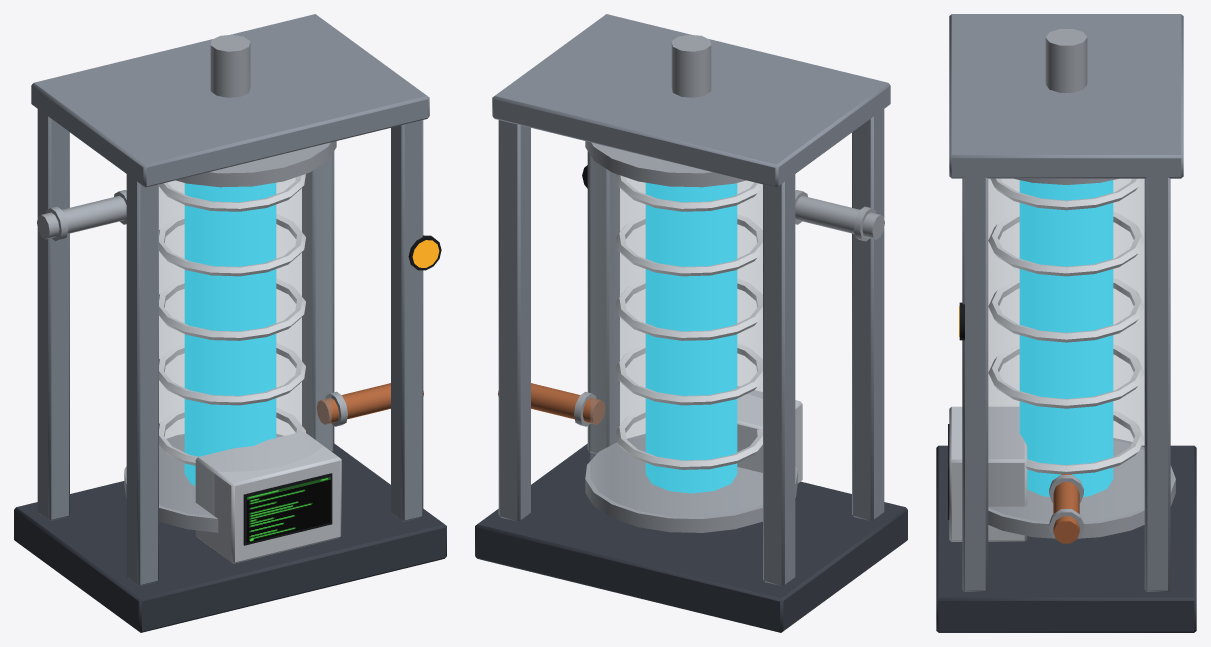
File: scrubber_atmosphere_processor.glb
The picture shows the model from 3 angles, left to right: view 1: azimuth 30°, elevation 25°; view 2: azimuth 150°, elevation 25°; view 3: azimuth 270°, elevation 25°; orthographic projection. The views are drawn at different scales.
Parts seen in each view (by area): view 1: scrubber_atmosphere_processor; view 2: scrubber_atmosphere_processor; view 3: scrubber_atmosphere_processor.
Part boxes in pixels (<box>): scrubber_atmosphere_processor: <box>14,14,446,632</box>; scrubber_atmosphere_processor: <box>475,14,907,632</box>; scrubber_atmosphere_processor: <box>936,14,1196,632</box>.
Bounding box in the file's own units: 1.7 × 2.2 × 1.
Materials: 11 (1 with a texture image).
